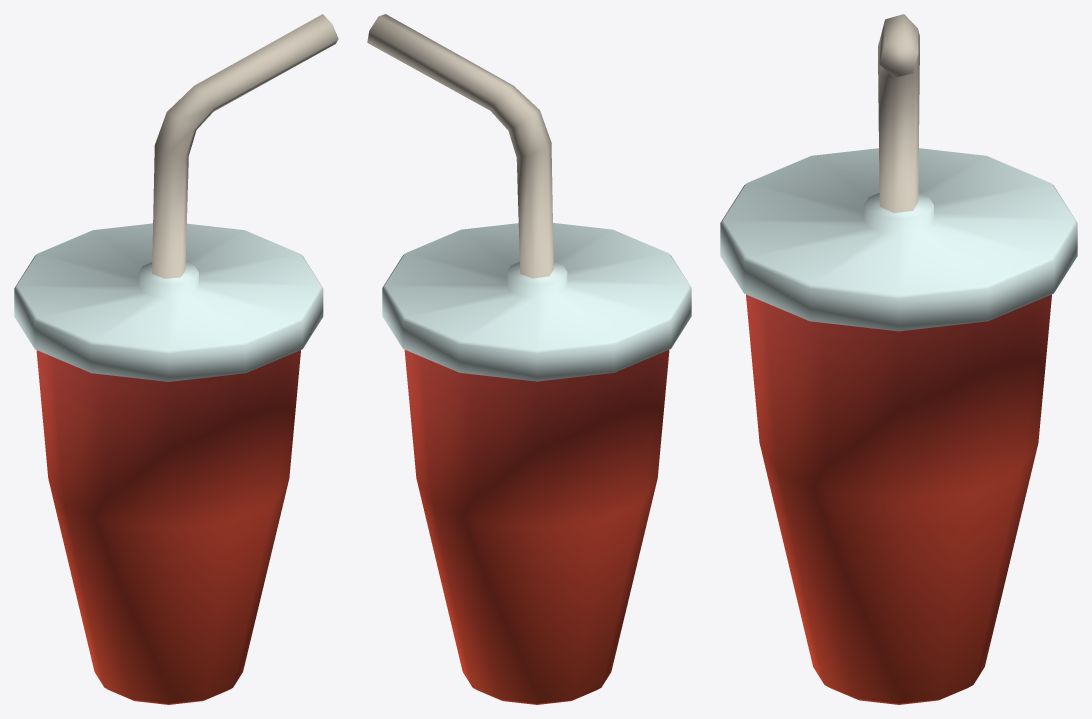
Rendered from Juice Glass.fbx.
3 renders of one model, left to right at view 1: azimuth 30°, elevation 25°; view 2: azimuth 150°, elevation 25°; view 3: azimuth 270°, elevation 25°, orthographic. The views are drawn at different scales.
Visible parts, largest first — view 1: Juice Glass; view 2: Juice Glass; view 3: Juice Glass.
Part boxes in pixels (box(x1,y1,x2,y2)): Juice Glass: box(14, 14, 338, 704); Juice Glass: box(367, 14, 691, 704); Juice Glass: box(720, 14, 1077, 704).
Bounding box in the file's own units: 20.8 × 41.43 × 18.65.
